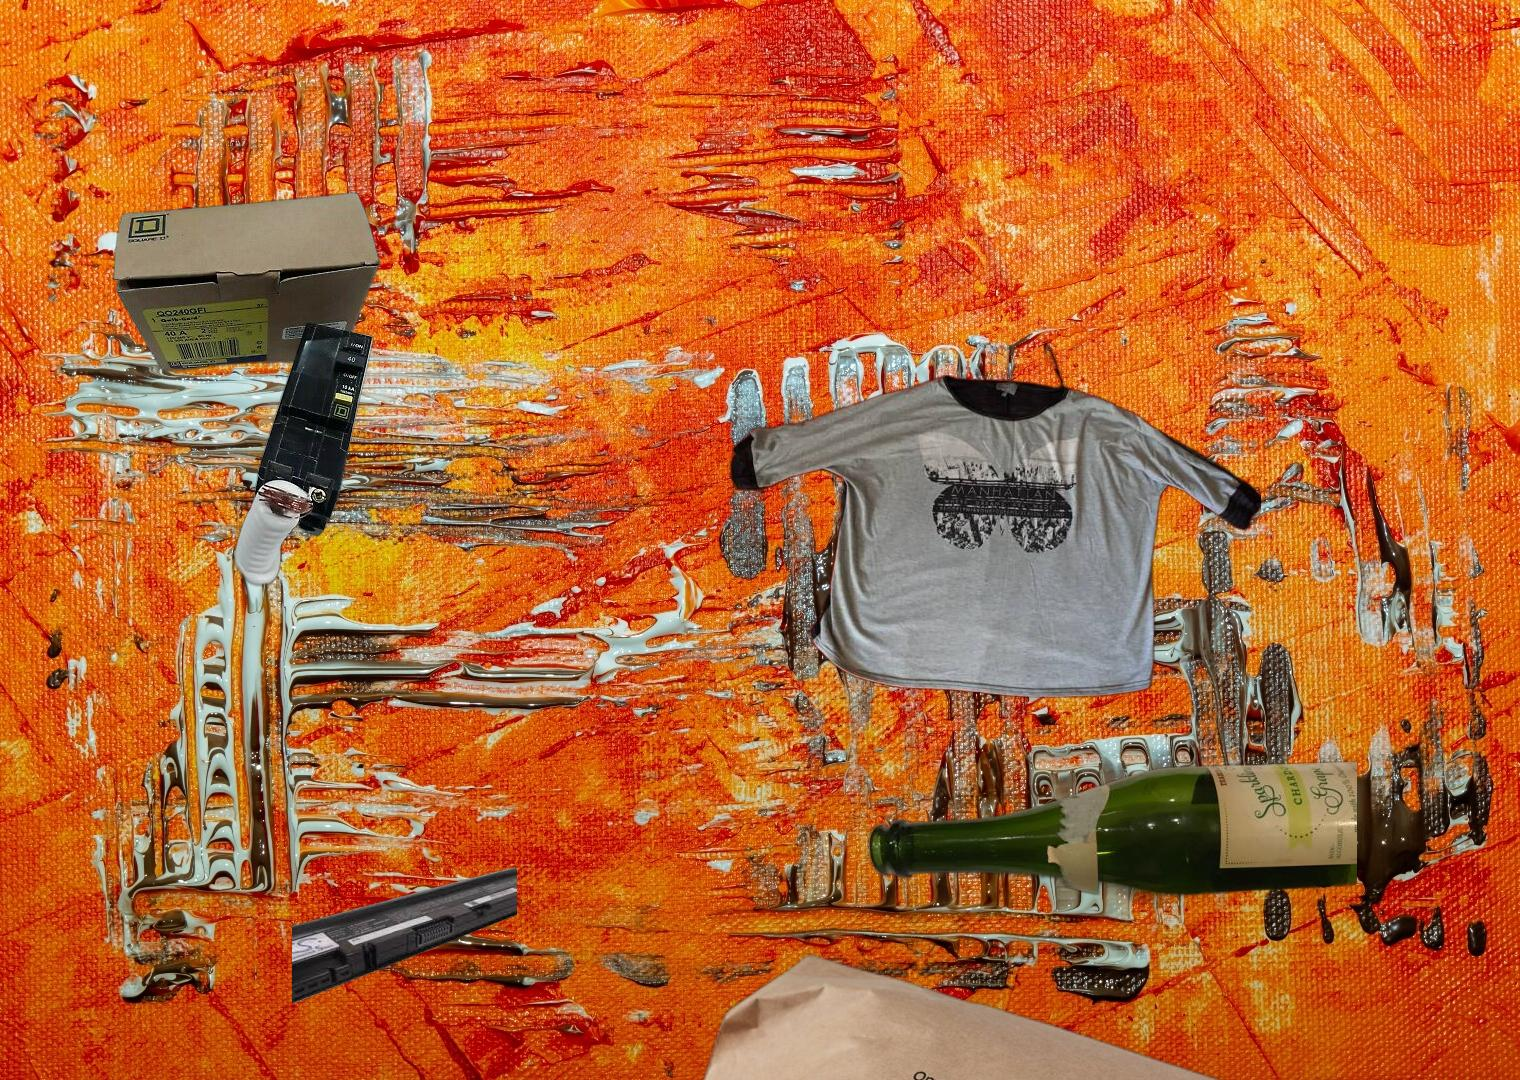battery: (292, 865, 518, 1006)
clothes: (727, 339, 1261, 701)
glass: (865, 757, 1356, 921)
trashbox-cardboard: (112, 189, 382, 587), (605, 950, 1406, 1080)
